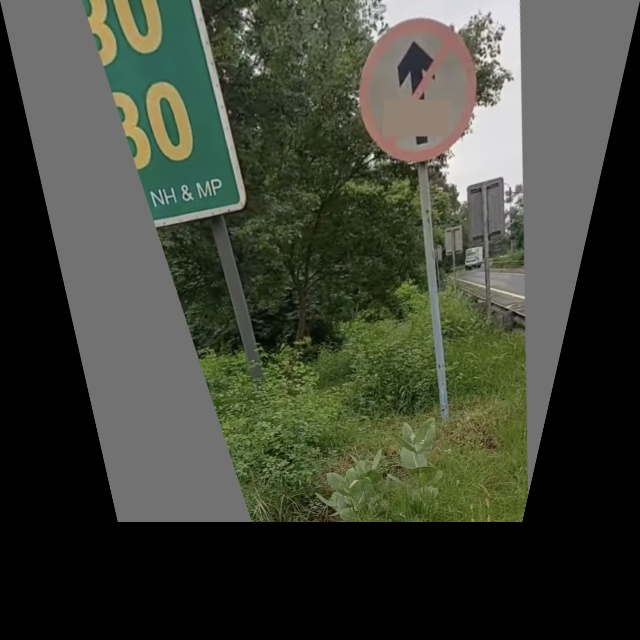No_Entry: (345, 7, 498, 174)
